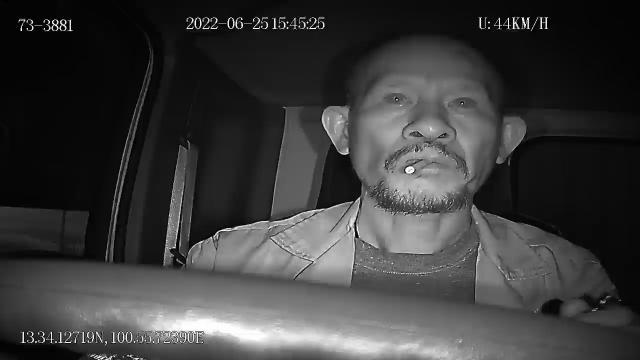SafeDriving: (439, 84, 484, 120), (378, 82, 419, 112)
Smoking: (406, 160, 432, 174)
